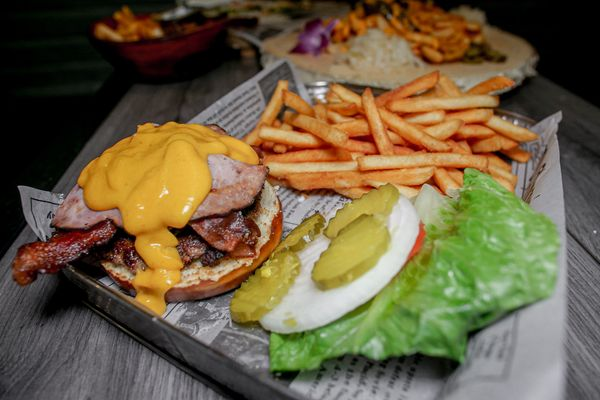soup: (36, 119, 284, 308)
sushi: (88, 2, 233, 78)
